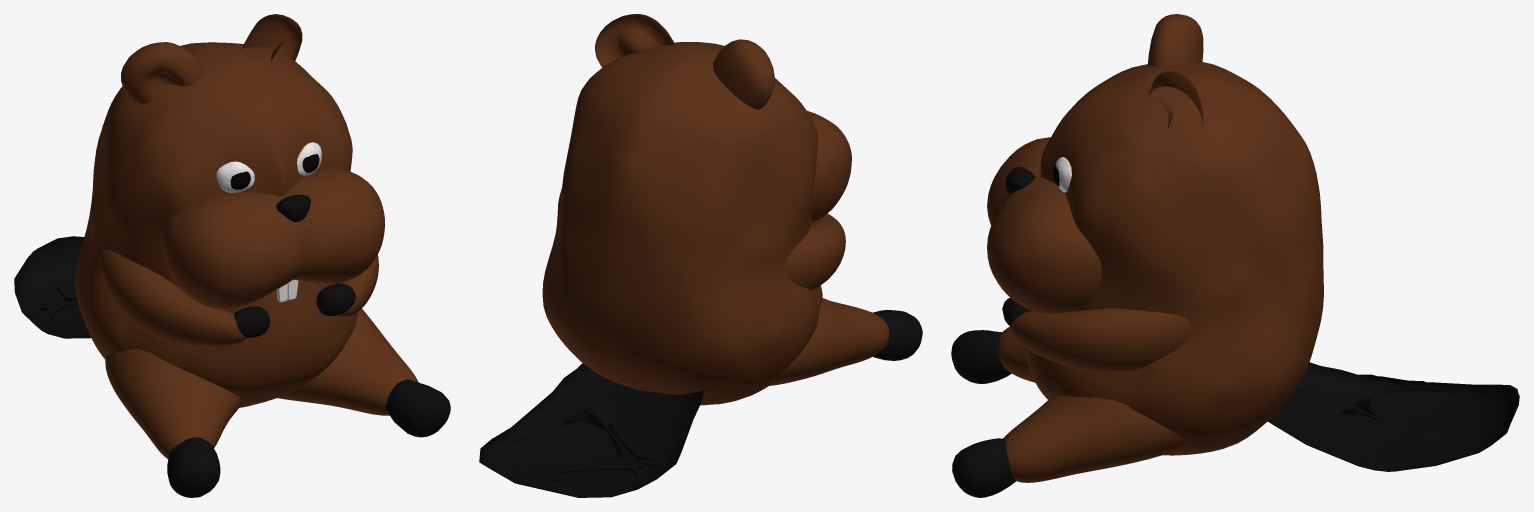
The model's file is BEAVER3 (bake).fbx.
3 renders of one model, left to right at view 1: azimuth 30°, elevation 25°; view 2: azimuth 150°, elevation 25°; view 3: azimuth 270°, elevation 25°, orthographic. The views are drawn at different scales.
Visible parts, largest first — view 1: tooth.001; view 2: tooth.001; view 3: tooth.001.
Boxes of the visible parts, box(x1,y1,x2,y2) form: tooth.001: box(14, 14, 450, 497); tooth.001: box(479, 14, 922, 497); tooth.001: box(951, 14, 1519, 497).
Bounding box in the file's own units: 1016 × 1303 × 1699.
